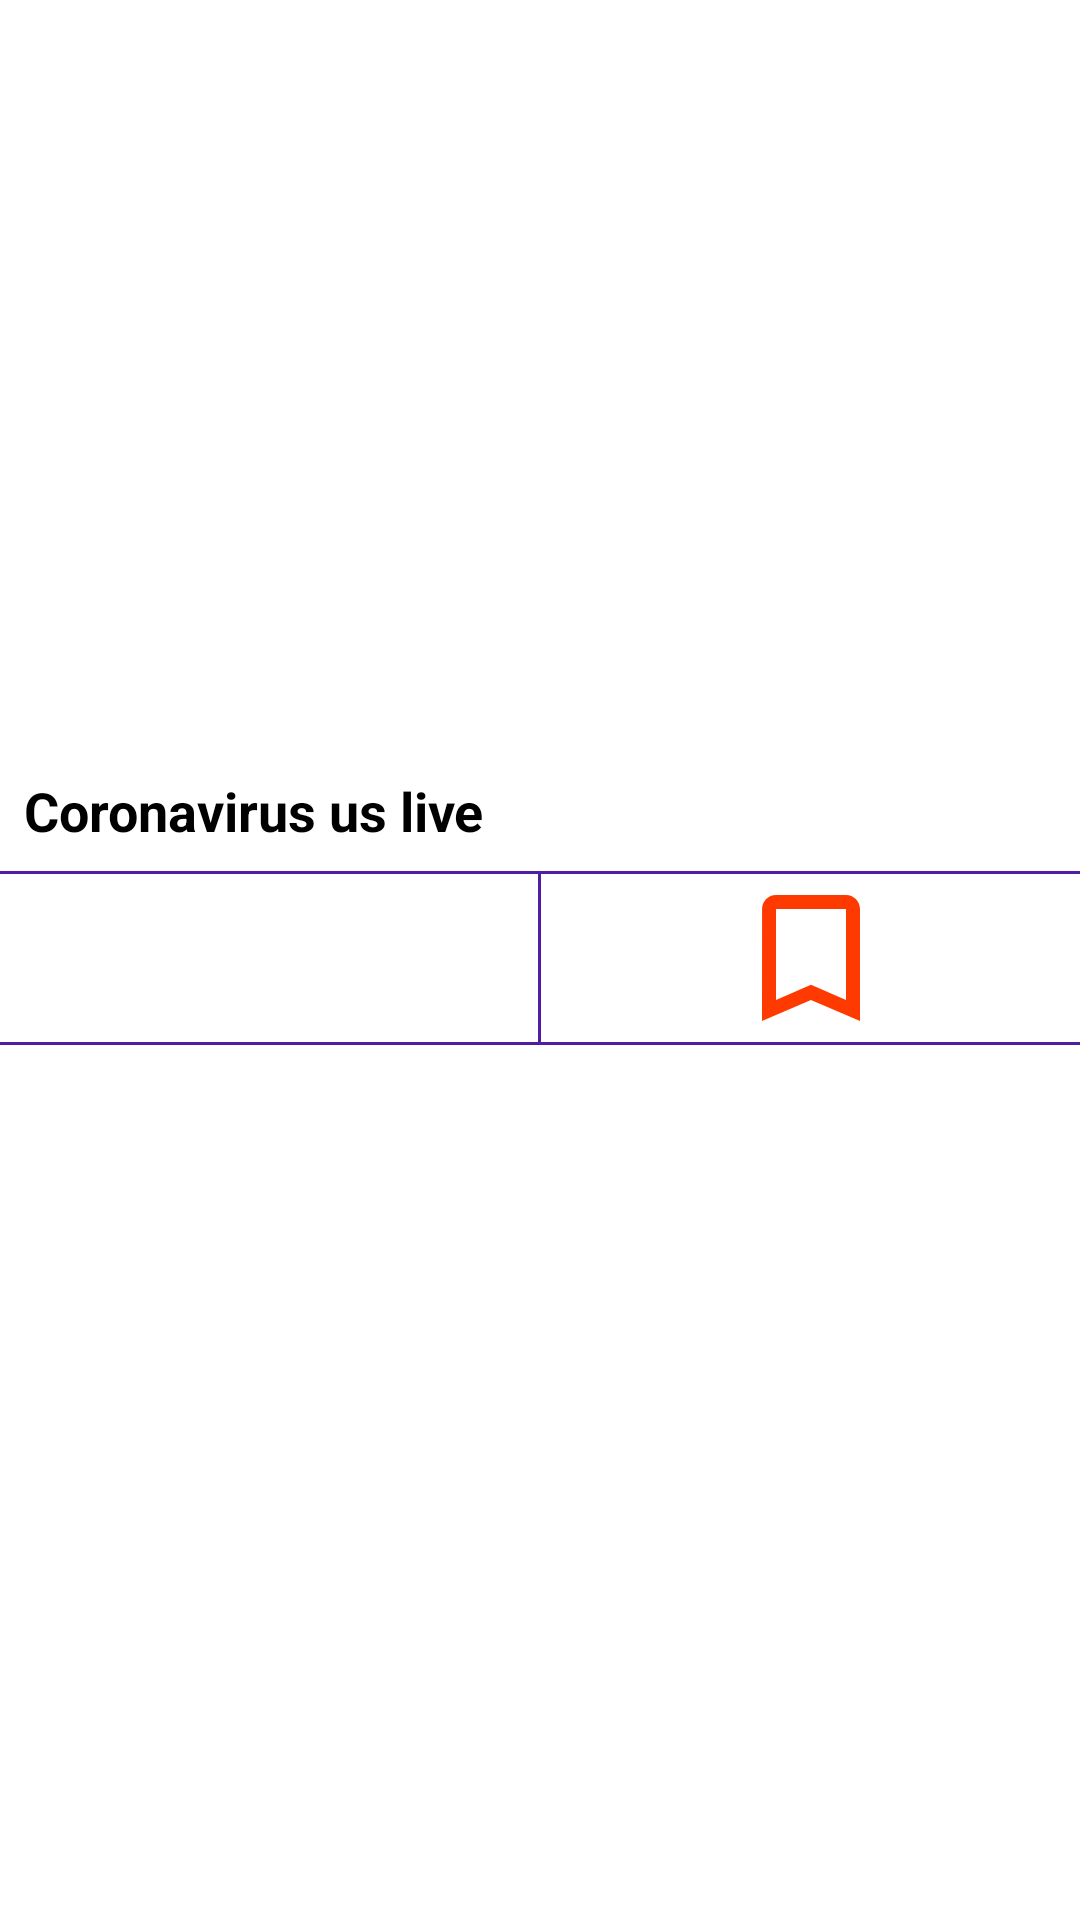

Screen size 1080 x 1920. Icon name, then its center in pixels as [x,y]:
turned in not: [811,958]
